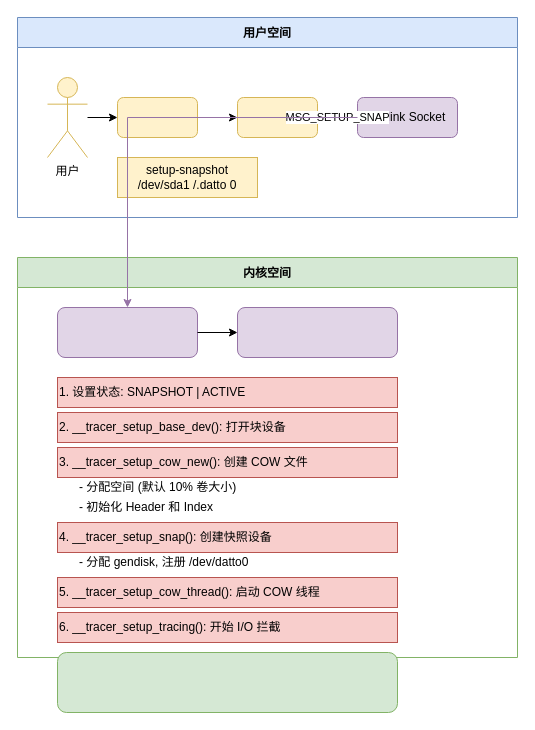
The diagram is 535 pixels wide and 730 high, and some of its shapes have lost their labels. Here are the shapes that lost their labels. From the top down, the centre of each, then its label:
the point at 157,117: dbdctl
the point at 277,117: libdattobd
the point at 127,332: netlink_handlers.c handle_request()
the point at 317,332: tracer.c tracer_setup_active_snap()
the point at 227,682: 结果: • /dev/datto0 设备可用 (只读快照视图) • /.datto COW 文件已创建 • 所有写请求被拦截并执行 COW
